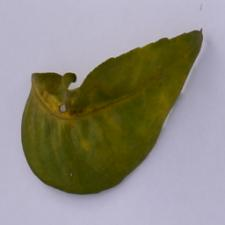Greening: (20, 47, 211, 187)
